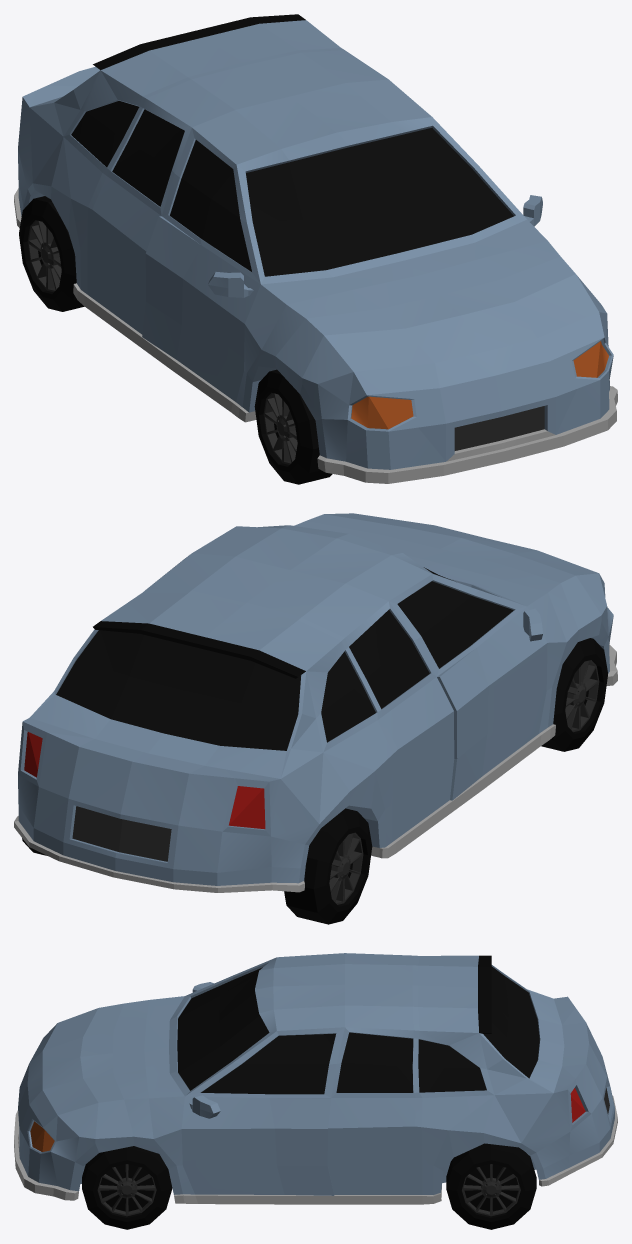
The model's file is normalCar2.obj.
3 renders of one model, top to bottom at view 1: azimuth 30°, elevation 25°; view 2: azimuth 150°, elevation 25°; view 3: azimuth 270°, elevation 25°, orthographic. The views are drawn at different scales.
Parts seen in each view (by area): view 1: NormalCar2_Cube.002, NormalCar2_FrontRightWheel_Cylinder.016, NormalCar2_BackWheels_Cylinder.003; view 2: NormalCar2_Cube.002, NormalCar2_BackWheels_Cylinder.003, NormalCar2_FrontRightWheel_Cylinder.016; view 3: NormalCar2_Cube.002, NormalCar2_BackWheels_Cylinder.003, NormalCar2_FrontLeftWheel_Cylinder.015.
Boxes of the visible parts, box(x1,y1,x2,y2) form: NormalCar2_Cube.002: box(14, 14, 617, 483); NormalCar2_FrontRightWheel_Cylinder.016: box(254, 369, 332, 484); NormalCar2_BackWheels_Cylinder.003: box(19, 196, 84, 311); NormalCar2_Cube.002: box(14, 513, 617, 892); NormalCar2_BackWheels_Cylinder.003: box(22, 808, 372, 924); NormalCar2_FrontRightWheel_Cylinder.016: box(541, 638, 607, 751); NormalCar2_Cube.002: box(14, 953, 617, 1204); NormalCar2_BackWheels_Cylinder.003: box(446, 1143, 536, 1229); NormalCar2_FrontLeftWheel_Cylinder.015: box(82, 1146, 172, 1229).
Bounding box in the file's own units: 1.64 × 1.15 × 3.31.
